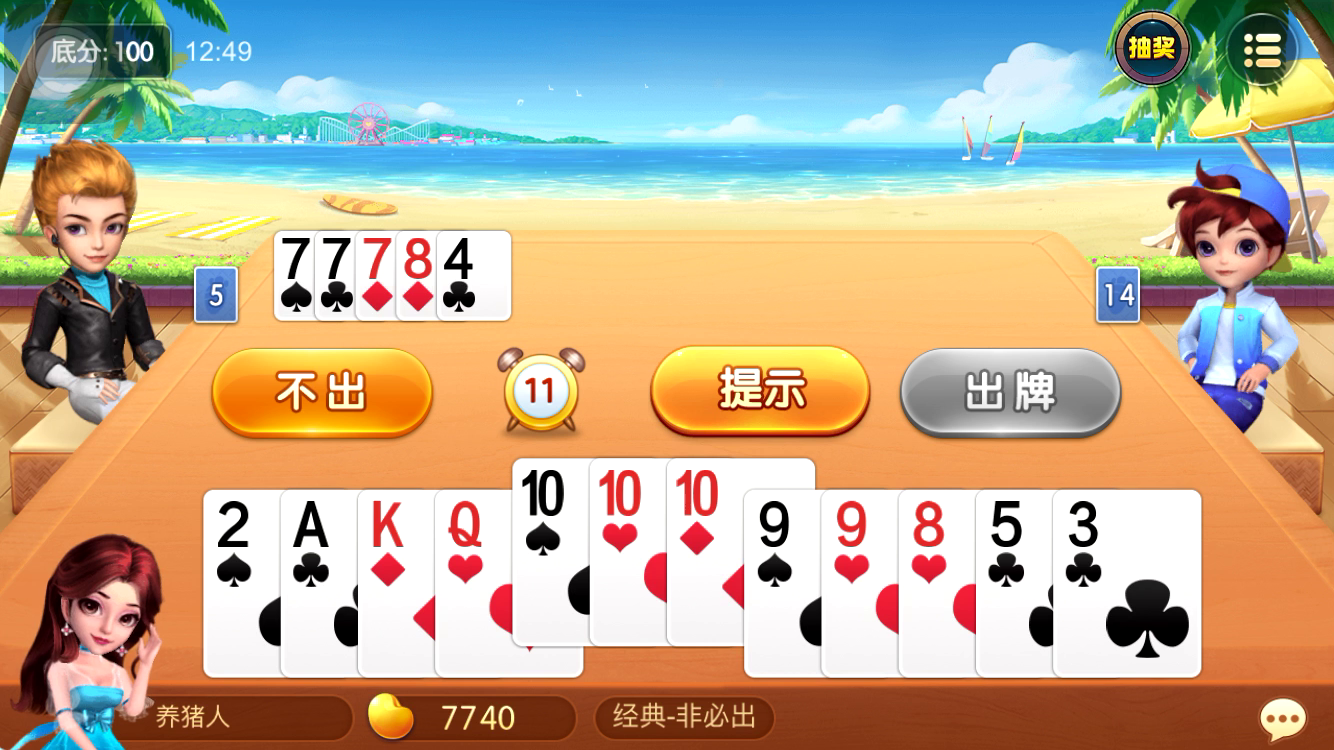A: (286, 495, 343, 557)
K: (362, 495, 416, 557)
Q: (439, 497, 491, 554)
eight: (906, 500, 957, 554), (398, 237, 436, 284)
five: (983, 497, 1033, 556)
four: (439, 234, 483, 285)
nine: (748, 496, 804, 557), (827, 497, 879, 553)
seven: (317, 234, 355, 284), (358, 234, 396, 283), (276, 233, 313, 283)
ten: (592, 464, 651, 522), (516, 464, 571, 525), (669, 460, 723, 518)
three: (1064, 500, 1113, 564)
two: (208, 497, 263, 558)
